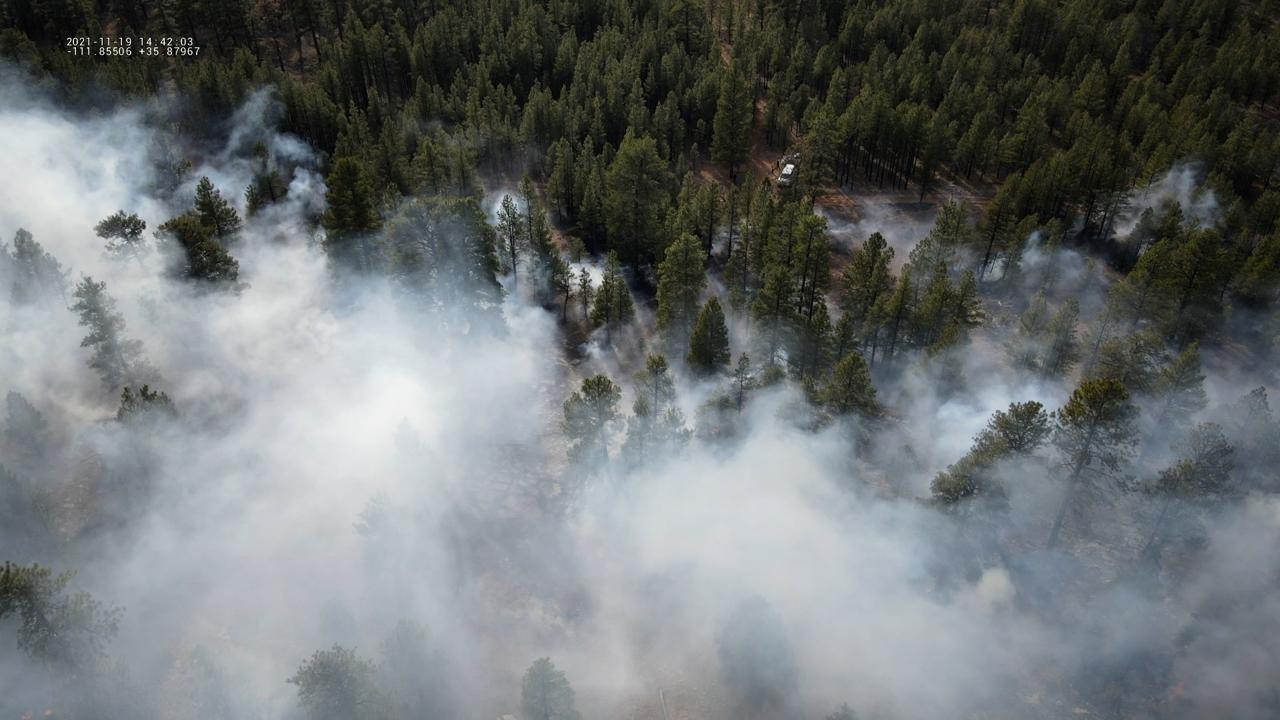fire: (1168, 681, 1187, 699), (19, 708, 33, 720), (43, 709, 53, 716)
smoke: (0, 55, 1280, 720)
